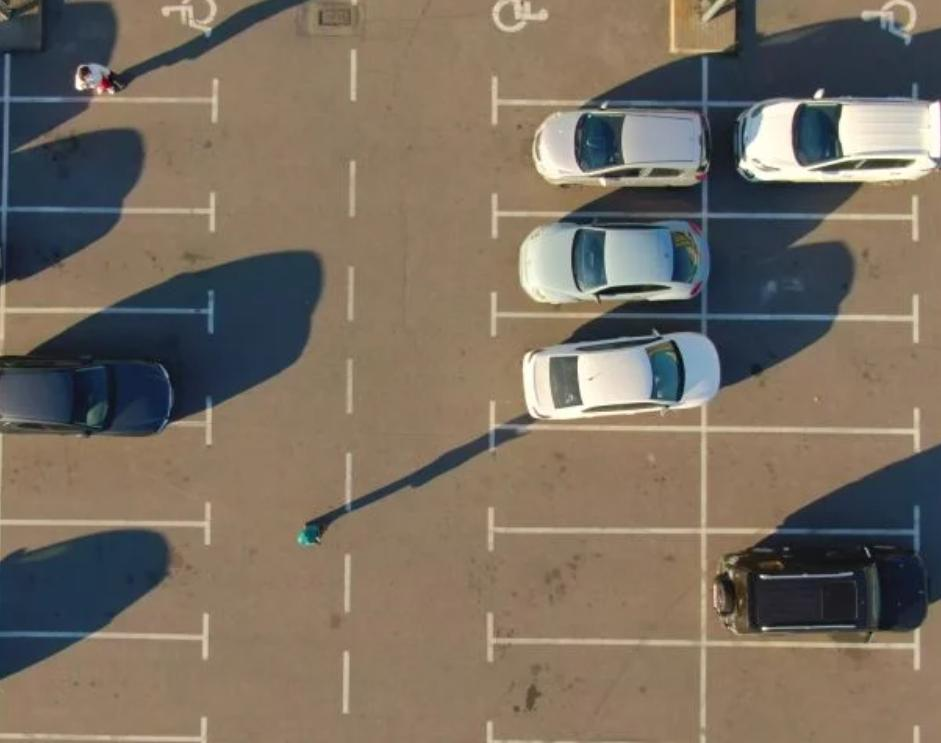Car: (709, 538, 941, 652), (739, 86, 941, 203), (507, 216, 721, 318), (525, 102, 722, 205), (507, 332, 733, 419), (1, 356, 185, 441)
Empty: (13, 96, 215, 203), (501, 532, 700, 635), (723, 322, 927, 420), (713, 646, 914, 736), (23, 530, 207, 628), (3, 640, 206, 726), (715, 442, 922, 526), (499, 650, 698, 737), (501, 432, 693, 520), (721, 228, 922, 312), (19, 214, 214, 300), (19, 6, 212, 91), (505, 0, 695, 84), (731, 4, 913, 88), (17, 442, 206, 520), (21, 312, 204, 352)
